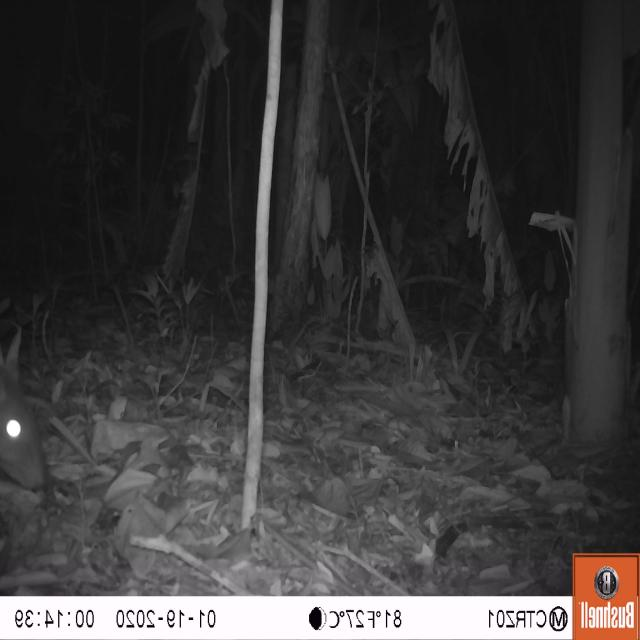Spotted Paca: (0, 344, 45, 510)
